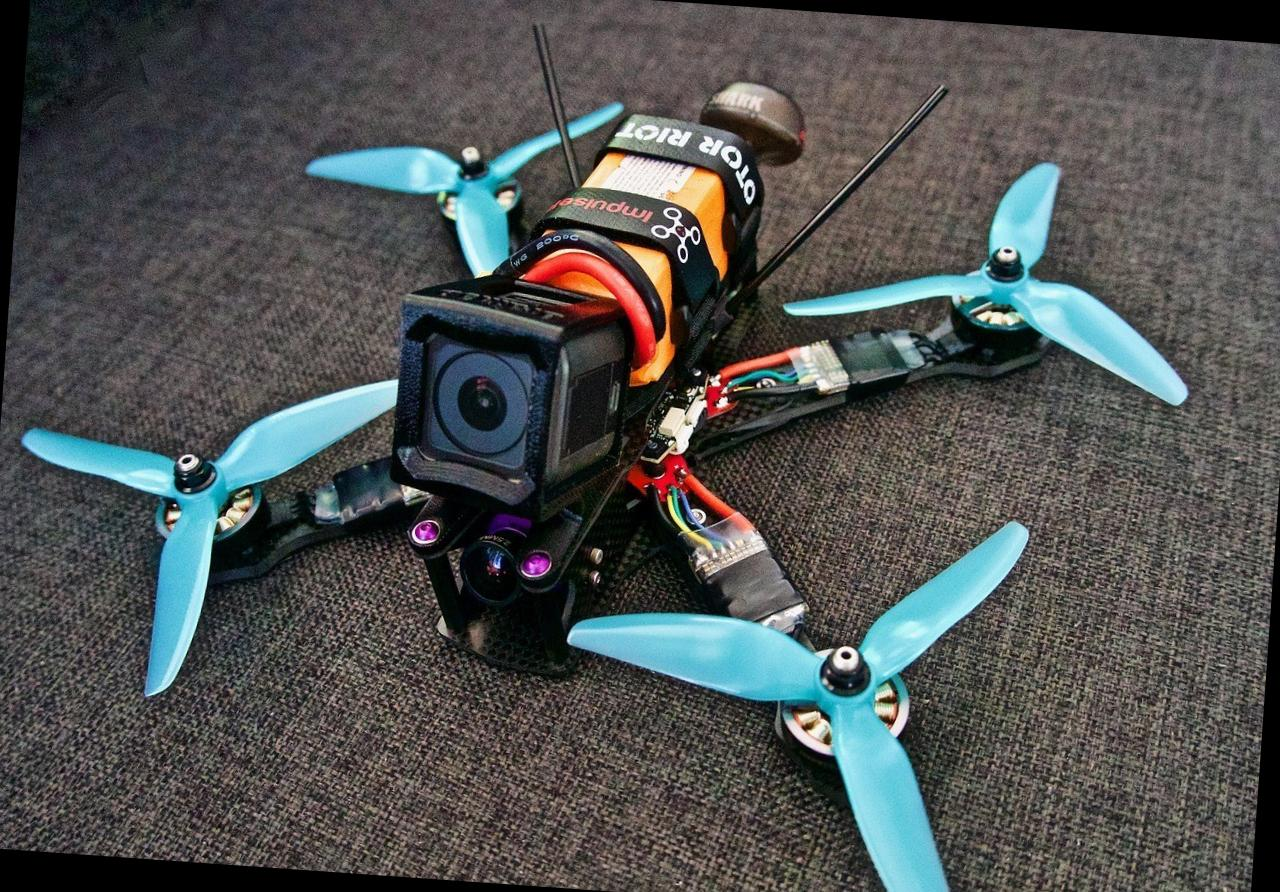drone: (21, 88, 1235, 892)
